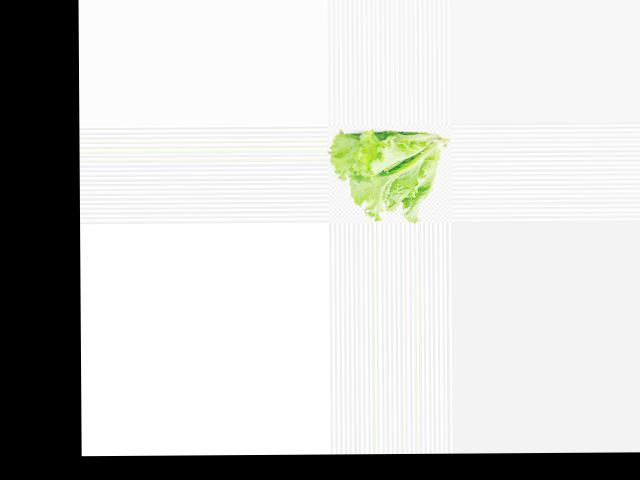lettuce: (329, 132, 451, 222)
